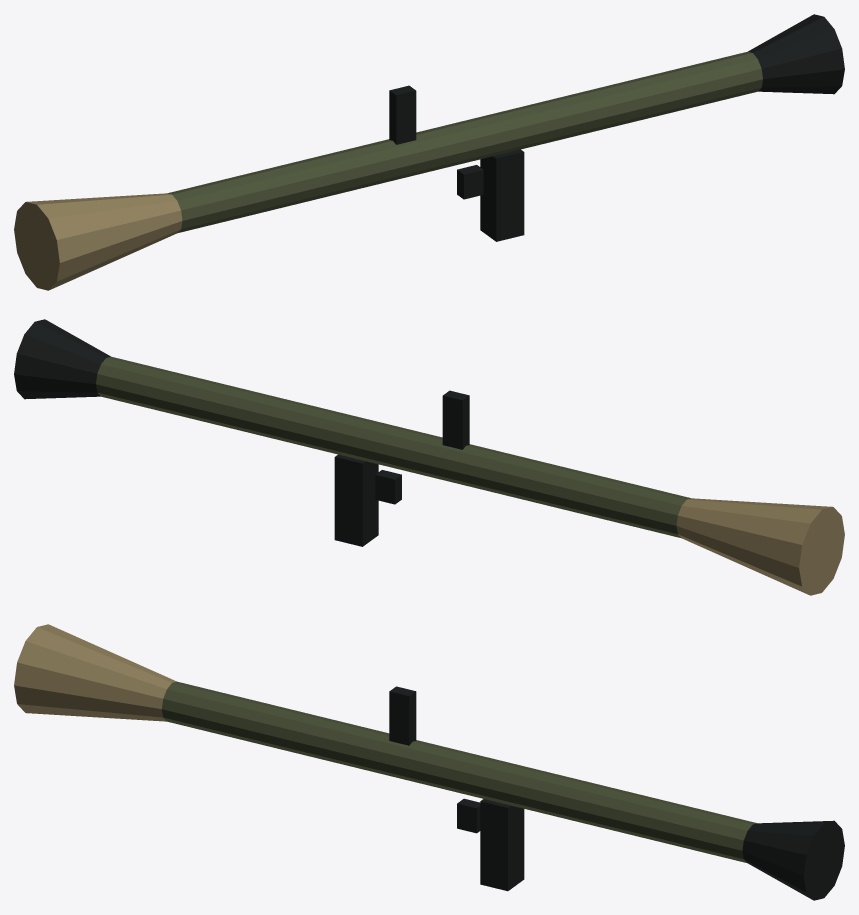
The model's file is RPG.obj.
3 views of the same model, one above another, from view 1: azimuth 30°, elevation 25°; view 2: azimuth 150°, elevation 25°; view 3: azimuth 330°, elevation 25° (orthographic).
Visible parts, largest first — view 1: RPG_Tube, RPG_Warhead, RPG_RearCone, RPG_Grip, RPG_Sight, RPG_Trigger; view 2: RPG_Tube, RPG_Warhead, RPG_RearCone, RPG_Grip, RPG_Sight, RPG_Trigger; view 3: RPG_Tube, RPG_Warhead, RPG_RearCone, RPG_Grip, RPG_Sight, RPG_Trigger.
Boxes of the visible parts, x1,y1,x2,y2 form: RPG_Tube: [167, 51, 762, 233]; RPG_Warhead: [14, 193, 182, 290]; RPG_RearCone: [748, 14, 844, 94]; RPG_Grip: [480, 149, 524, 241]; RPG_Sight: [389, 85, 416, 144]; RPG_Trigger: [457, 165, 483, 199]; RPG_Tube: [96, 356, 691, 538]; RPG_Warhead: [676, 498, 844, 595]; RPG_RearCone: [14, 319, 110, 399]; RPG_Grip: [334, 454, 378, 546]; RPG_Sight: [442, 390, 469, 449]; RPG_Trigger: [375, 470, 401, 504]; RPG_Tube: [162, 681, 757, 862]; RPG_Warhead: [14, 624, 176, 721]; RPG_RearCone: [742, 820, 844, 900]; RPG_Grip: [480, 799, 524, 891]; RPG_Sight: [389, 686, 416, 745]; RPG_Trigger: [457, 798, 480, 833].
Size of the model in its own units: 1.98 by 0.4 by 0.2.
